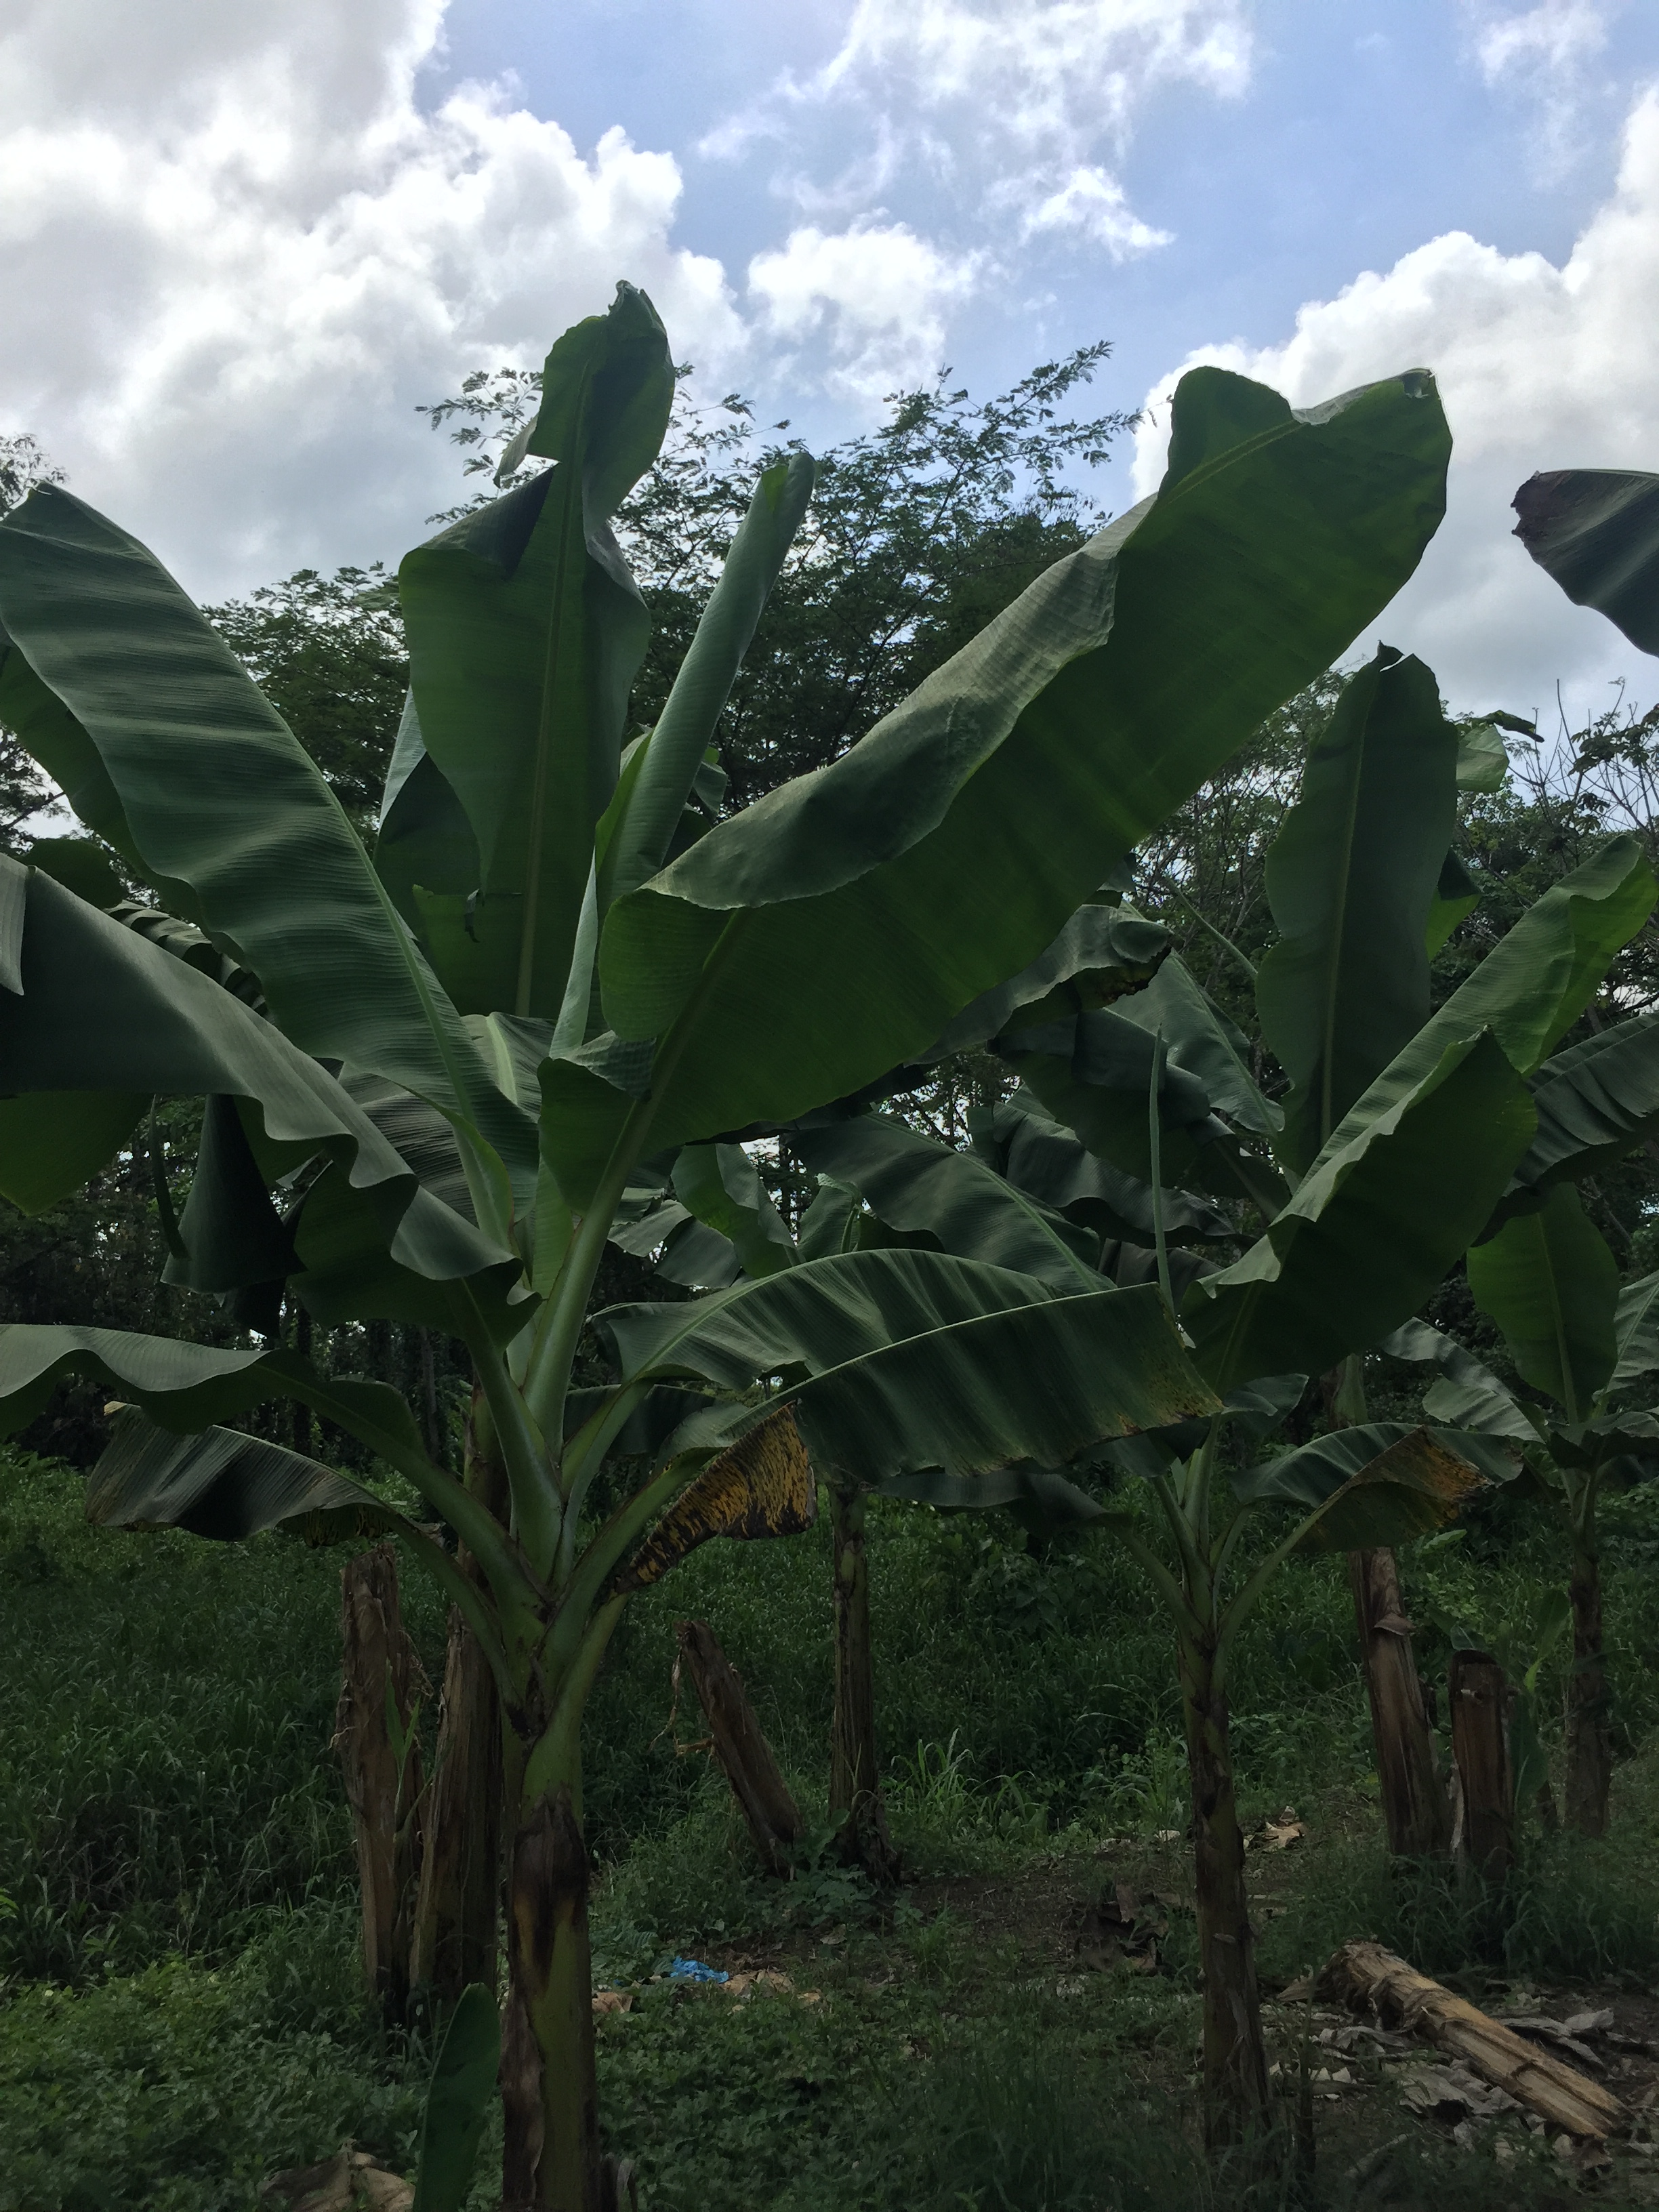candleleafs: (551, 453, 816, 1059), (1161, 874, 1262, 981), (1147, 1022, 1175, 1325)
